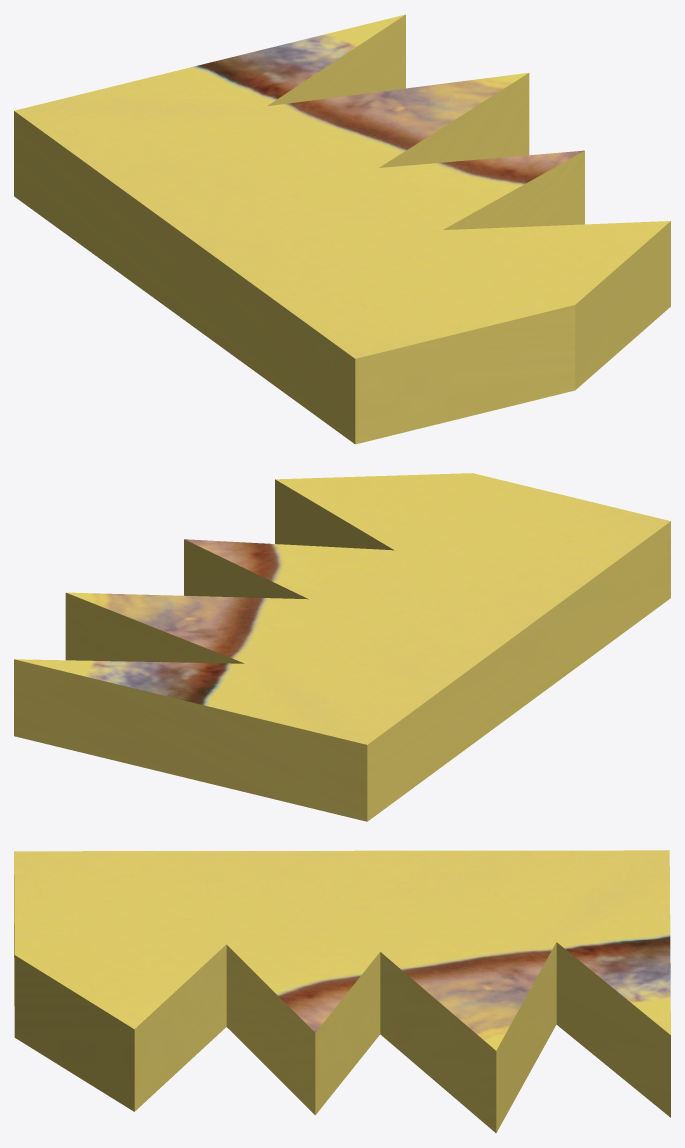
The model's file is puzzle4.fbx.
3 views of the same model, one above another, from view 1: azimuth 30°, elevation 25°; view 2: azimuth 150°, elevation 25°; view 3: azimuth 270°, elevation 25° (orthographic). The views are drawn at different scales.
Parts seen in each view (by area): view 1: Cube.006; view 2: Cube.006; view 3: Cube.006.
Part boxes in pixels (x1=…): Cube.006: x1=14, y1=14, x2=670, y2=444; Cube.006: x1=14, y1=473, x2=670, y2=821; Cube.006: x1=14, y1=850, x2=670, y2=1132.
Bounding box in the file's own units: 1081 × 208 × 1498.
1 material, 1 textured.
